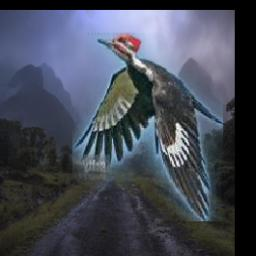Woodpecker: (72, 33, 223, 221)
